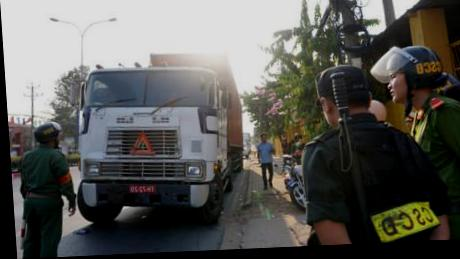License_Plate: (129, 184, 157, 194)
